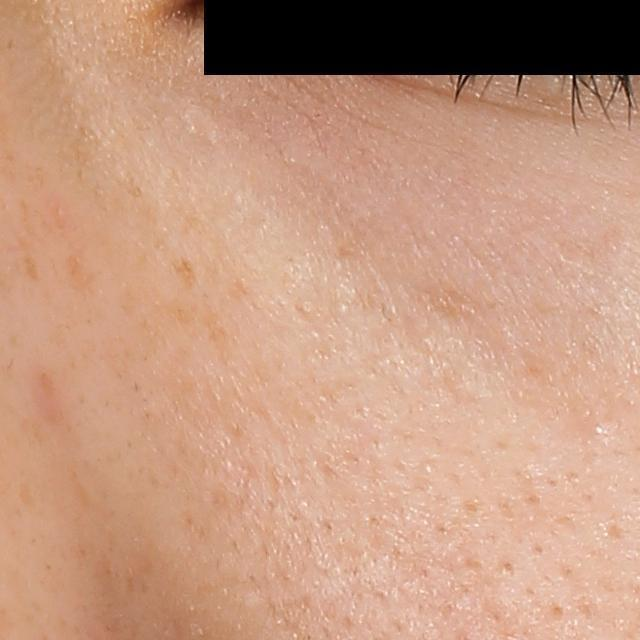comedo: (588, 420, 614, 446)
melasma: (407, 279, 494, 333), (193, 303, 231, 358), (64, 253, 101, 292), (169, 256, 199, 287)
